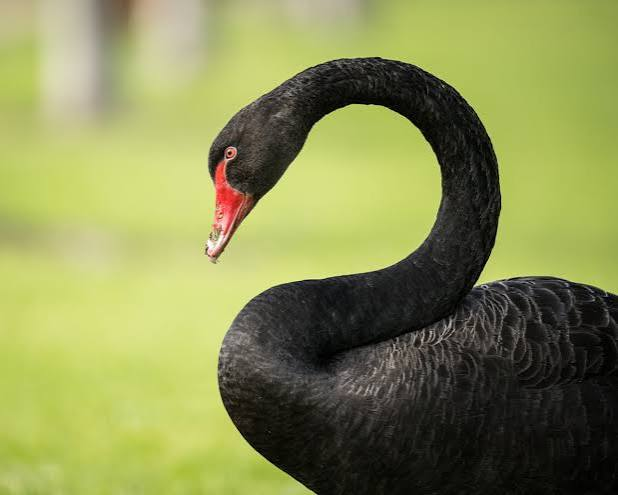black_swan: (199, 54, 618, 495)
